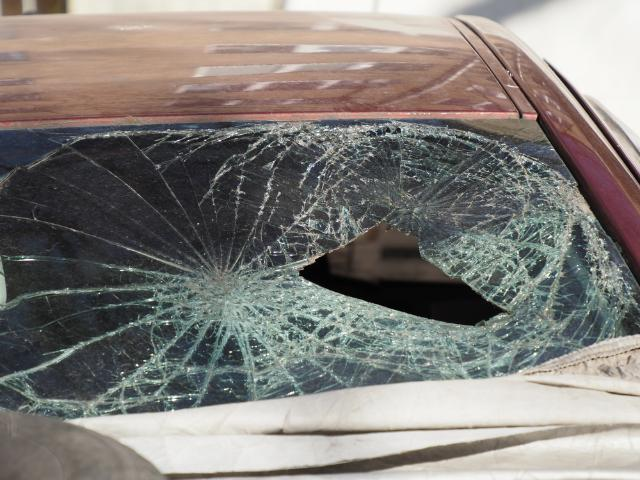glass shatter: (0, 119, 640, 418)
